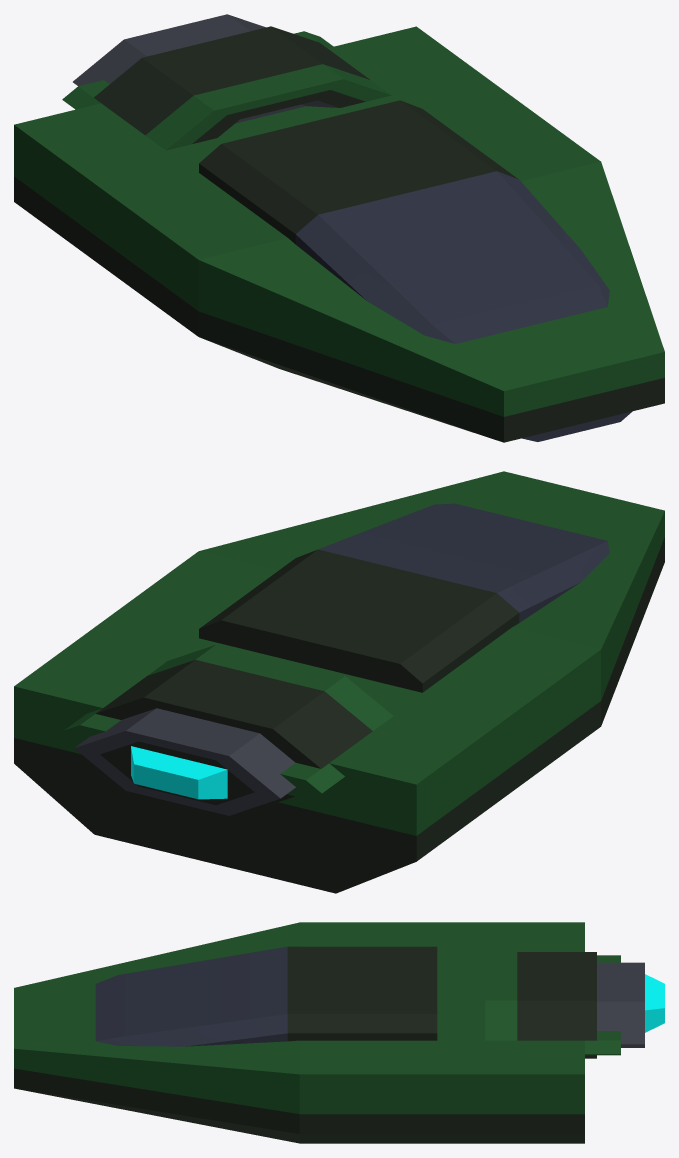
Rendered from car6.obj.
3 views of the same model, one above another, from view 1: azimuth 30°, elevation 25°; view 2: azimuth 150°, elevation 25°; view 3: azimuth 270°, elevation 25° (orthographic). The views are drawn at different scales.
Visible parts, largest first — view 1: mergedBlocks; view 2: mergedBlocks; view 3: mergedBlocks.
Part boxes in pixels (<box>): mergedBlocks: <box>14,14,664,442</box>; mergedBlocks: <box>14,471,664,893</box>; mergedBlocks: <box>14,922,664,1143</box>.
Bounding box in the file's own units: 1.8 × 0.67 × 3.26.
